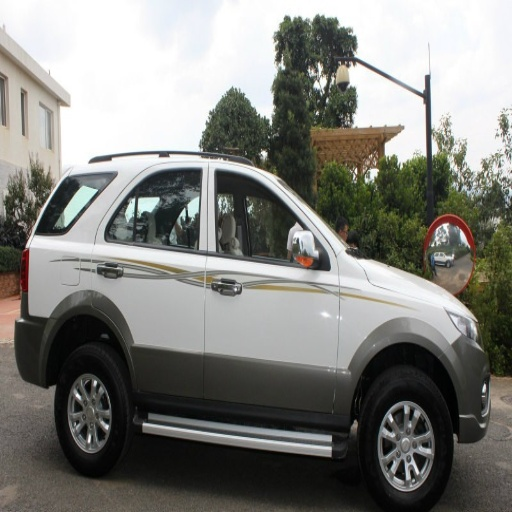back_right_door: (82, 163, 209, 408)
front_right_door: (204, 164, 336, 428)
